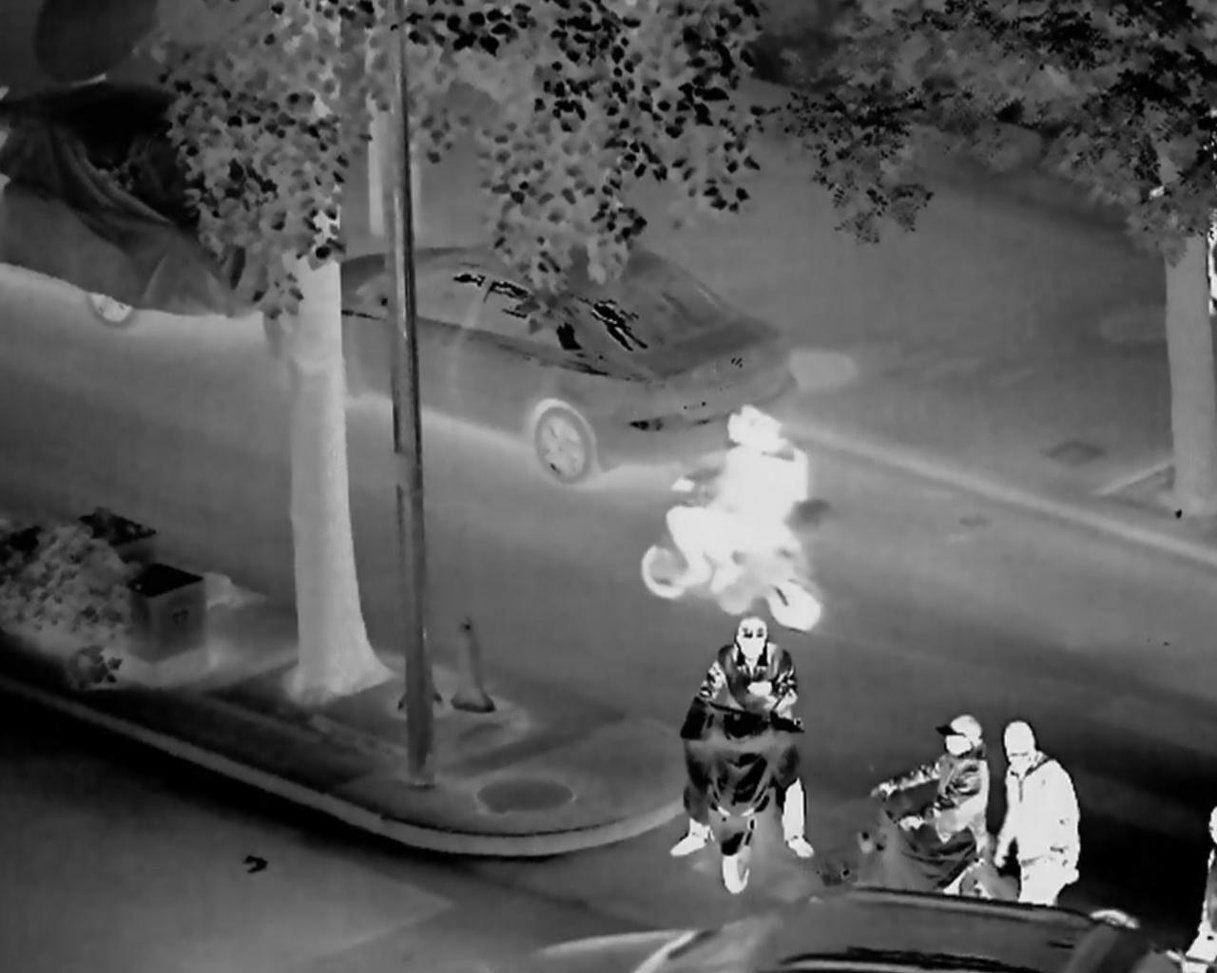person: (671, 616, 817, 865), (978, 713, 1099, 933), (873, 715, 992, 911), (662, 399, 762, 592), (702, 410, 806, 586)
